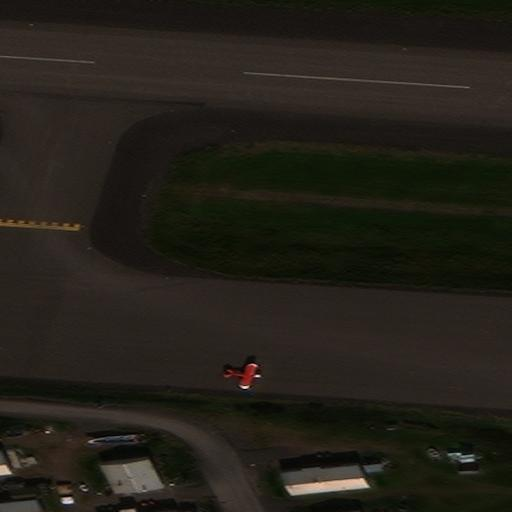Small Civil Transport: (224, 363, 260, 388)
